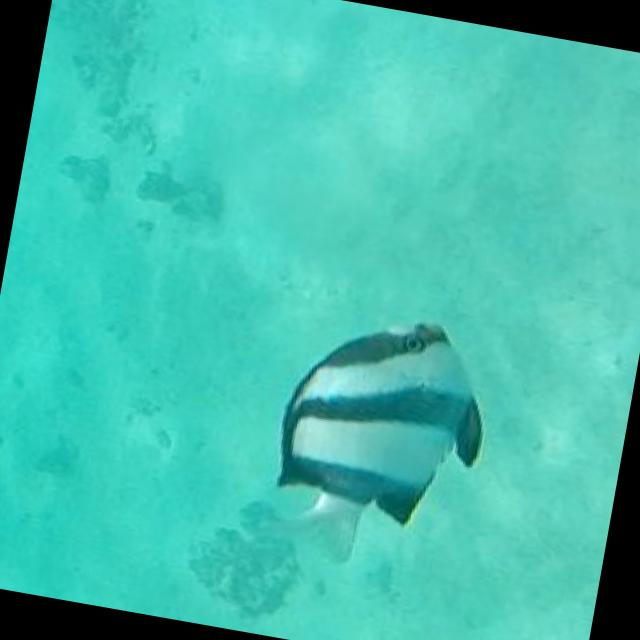ThreeStripedDamselfish: (278, 322, 486, 560)
